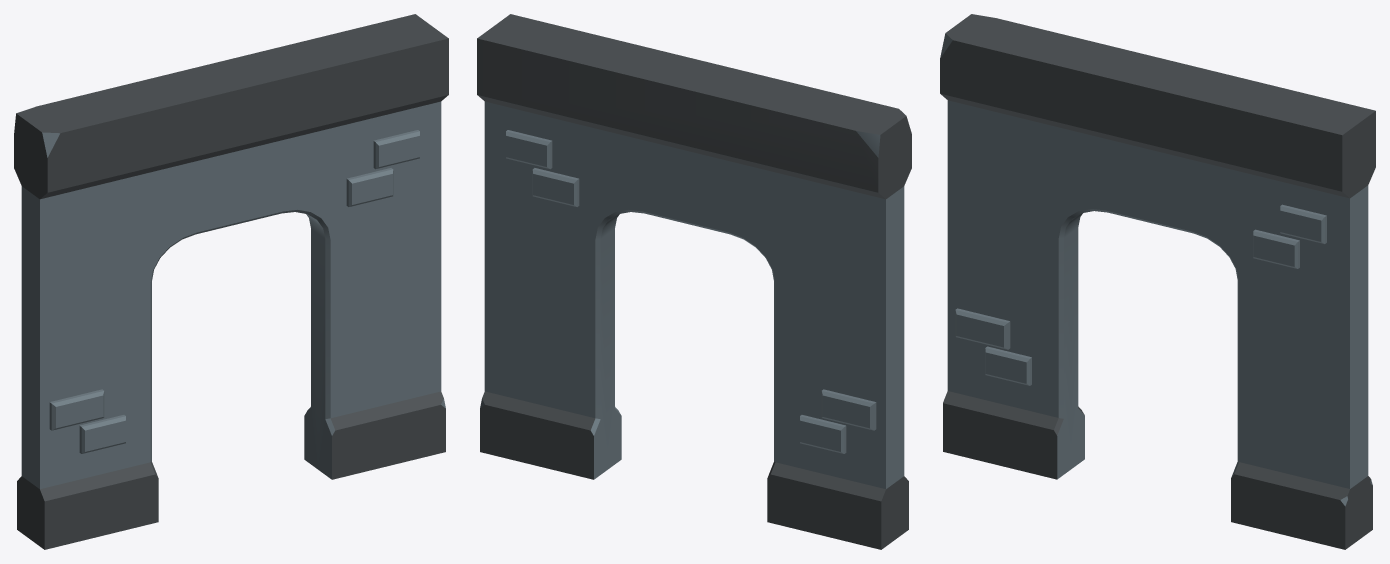
File: door_1_3.obj
3 renders of one model, left to right at view 1: azimuth 30°, elevation 25°; view 2: azimuth 150°, elevation 25°; view 3: azimuth 330°, elevation 25°, orthographic.
Visible parts, largest first — view 1: wall_1_3; view 2: wall_1_3; view 3: wall_1_3.
Part boxes in pixels (x1=…): wall_1_3: x1=14, y1=14, x2=448, y2=549; wall_1_3: x1=477, y1=14, x2=911, y2=549; wall_1_3: x1=940, y1=14, x2=1375, y2=549.
Bounding box in the file's own units: 1.54 × 1.52 × 0.2216.
